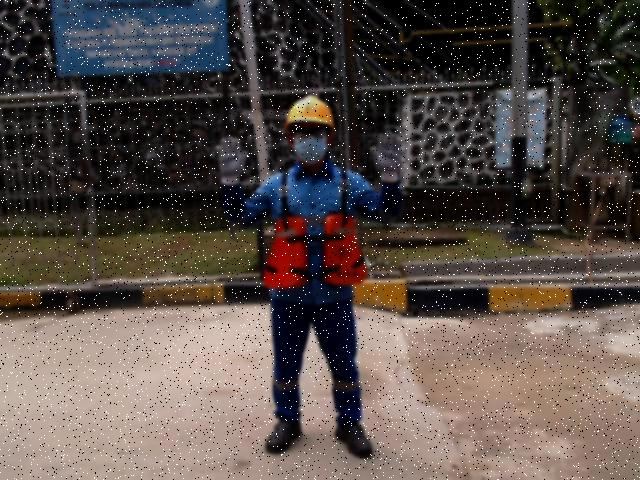glasses: (294, 126, 329, 140)
gloves: (366, 130, 407, 183), (212, 135, 249, 188)
helmet: (286, 94, 335, 130)
mask: (295, 135, 328, 165)
safety-shoes: (261, 411, 306, 456), (332, 416, 377, 460)
vest: (260, 212, 368, 289)
